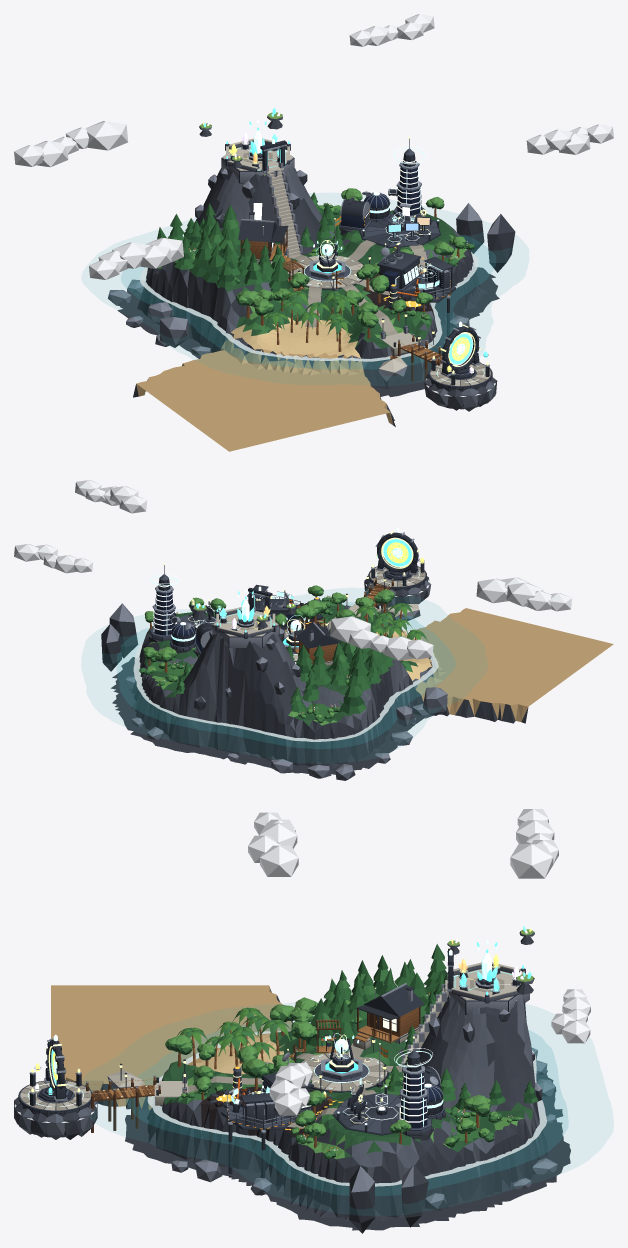
File: island.glb
3 renders of one model, top to bottom at view 1: azimuth 30°, elevation 25°; view 2: azimuth 150°, elevation 25°; view 3: azimuth 270°, elevation 25°, orthographic. The views are drawn at different scales.
Parts seen in each view (by area): view 1: SM_Island_Terrain, SM_Ocean_Shallows, SM_Outpost_Buildings, SM_Cloud_01, SM_Portal_Platform, SM_Cloud_04, SM_Crystal_Terrace, SM_Cloud_03, SM_Ocean_Foam, SM_BaseCamp_Cabin, SM_Mountain_Stairs, SM_Paths (+12 smaller); view 2: SM_Island_Terrain, SM_Ocean_Shallows, SM_Outpost_Buildings, SM_Cloud_01, SM_Cloud_04, SM_Crystal_Terrace, SM_Ocean_Foam, SM_Portal_Platform, SM_Cloud_03, SM_Cloud_02, SM_Portal_Ring, SM_BaseCamp_Cabin (+8 smaller); view 3: SM_Island_Terrain, SM_Ocean_Shallows, SM_Portal_Platform, SM_BaseCamp_Cabin, SM_Outpost_Buildings, SM_Cloud_01, SM_Cloud_04, SM_Crystal_Terrace, SM_Ocean_Foam, SM_Outpost_Plaza, SM_Cloud_03, SM_BaseCamp_Plaza (+12 smaller).
Part boxes in pixels (box(x1,y1,x2,y2)): SM_Island_Terrain: box(117, 168, 499, 451); SM_Ocean_Shallows: box(121, 235, 496, 369); SM_Outpost_Buildings: box(339, 136, 425, 230); SM_Cloud_01: box(14, 121, 128, 167); SM_Portal_Platform: box(424, 355, 497, 411); SM_Cloud_04: box(89, 237, 183, 279); SM_Crystal_Terrace: box(221, 138, 294, 183); SM_Cloud_03: box(526, 124, 613, 154); SM_Ocean_Foam: box(140, 252, 478, 361); SM_BaseCamp_Cabin: box(238, 212, 291, 270); SM_Mountain_Stairs: box(265, 161, 302, 257); SM_Paths: box(257, 240, 428, 335); SM_Island_Terrain: box(111, 600, 613, 775); SM_Ocean_Shallows: box(116, 602, 455, 749); SM_Outpost_Buildings: box(149, 563, 212, 654); SM_Cloud_01: box(330, 616, 433, 660); SM_Cloud_04: box(476, 577, 571, 611); SM_Crystal_Terrace: box(212, 586, 279, 647); SM_Ocean_Foam: box(133, 626, 438, 741); SM_Portal_Platform: box(364, 562, 431, 607); SM_Cloud_03: box(75, 480, 147, 513); SM_Cloud_02: box(14, 544, 93, 573); SM_Portal_Ring: box(375, 527, 419, 580); SM_BaseCamp_Cabin: box(294, 622, 341, 665); SM_Island_Terrain: box(51, 985, 570, 1230); SM_Ocean_Shallows: box(125, 1022, 568, 1196); SM_Portal_Platform: box(14, 1068, 97, 1139); SM_BaseCamp_Cabin: box(353, 983, 423, 1049); SM_Outpost_Buildings: box(394, 1036, 444, 1135); SM_Cloud_01: box(510, 809, 558, 878); SM_Cloud_04: box(248, 812, 298, 876); SM_Crystal_Terrace: box(444, 948, 529, 1014); SM_Ocean_Foam: box(147, 1031, 546, 1186); SM_Outpost_Plaza: box(332, 1085, 427, 1135); SM_Cloud_03: box(269, 1063, 312, 1115); SM_BaseCamp_Plaza: box(300, 1052, 389, 1092).
Size of what is drawn, in the model's own units: 71.65 by 25.3 by 59.82.
Materials: 22 (1 with a texture image).
